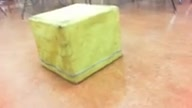cube: (29, 3, 122, 84)
